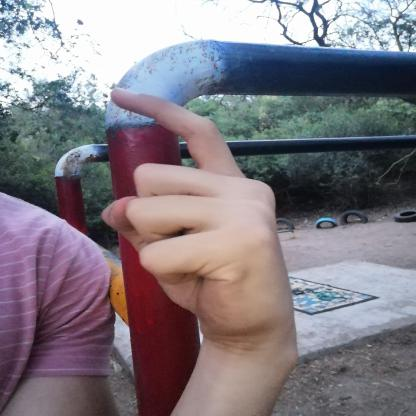RAA: (89, 72, 302, 349)
